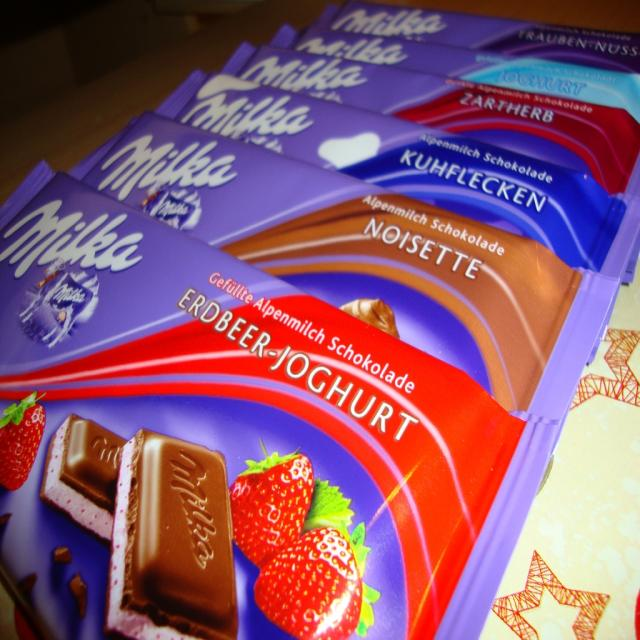milka: (2, 196, 150, 354), (95, 129, 245, 237), (181, 85, 318, 156), (238, 52, 373, 103), (333, 7, 453, 39), (296, 36, 414, 68)
